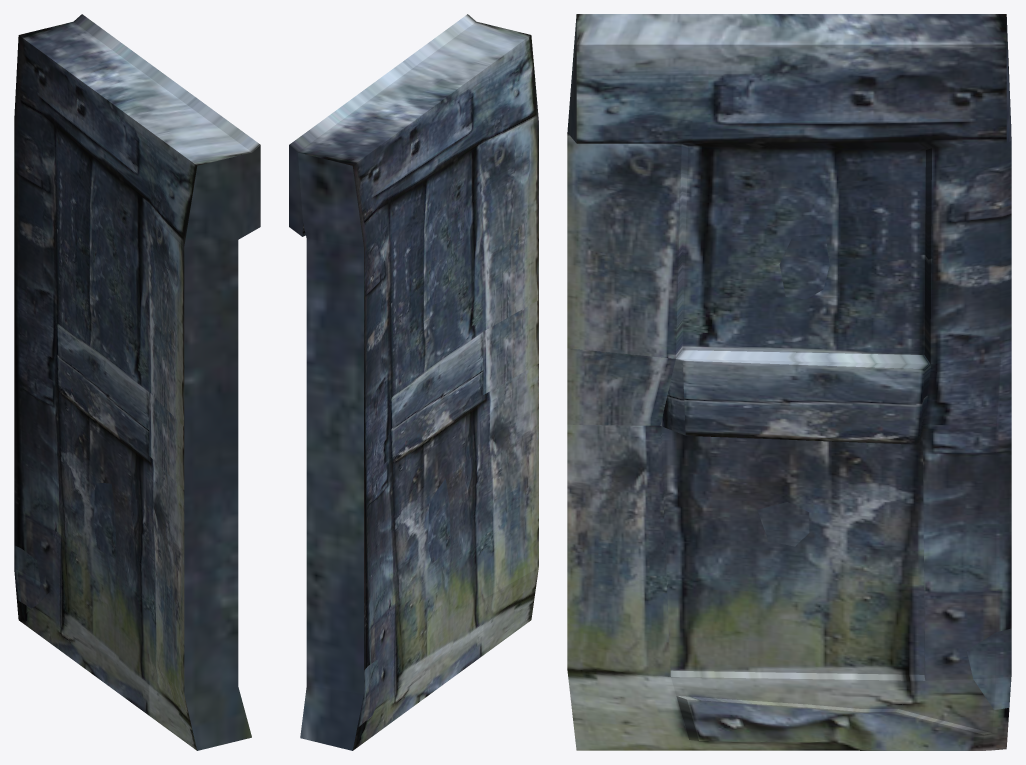
The model's file is door.glb.
3 renders of one model, left to right at view 1: azimuth 30°, elevation 25°; view 2: azimuth 150°, elevation 25°; view 3: azimuth 270°, elevation 25°, orthographic. The views are drawn at different scales.
Visible parts, largest first — view 1: door; view 2: door; view 3: door.
Part boxes in pixels (x1,y1,x2,y2): door: (14,14,260,750); door: (289,14,538,750); door: (567,14,1011,750).
Bounding box in the file's own units: 0.6301 × 4.65 × 2.63.
1 material, 1 textured.
